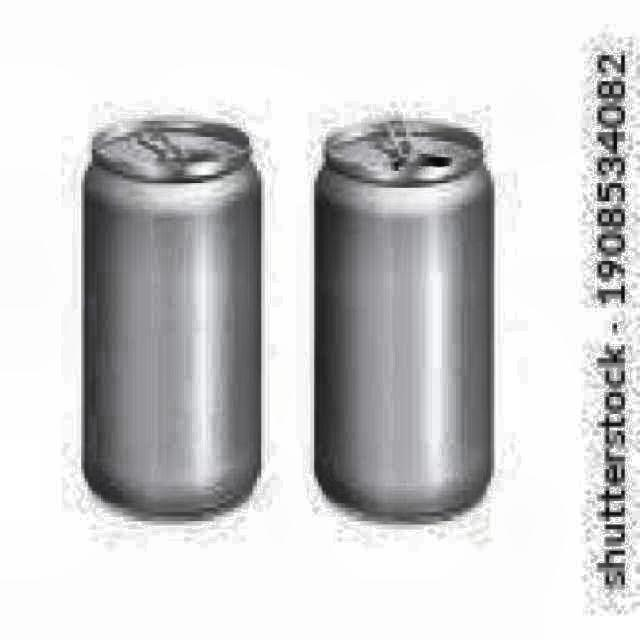can: (302, 107, 500, 532), (77, 106, 269, 528)
